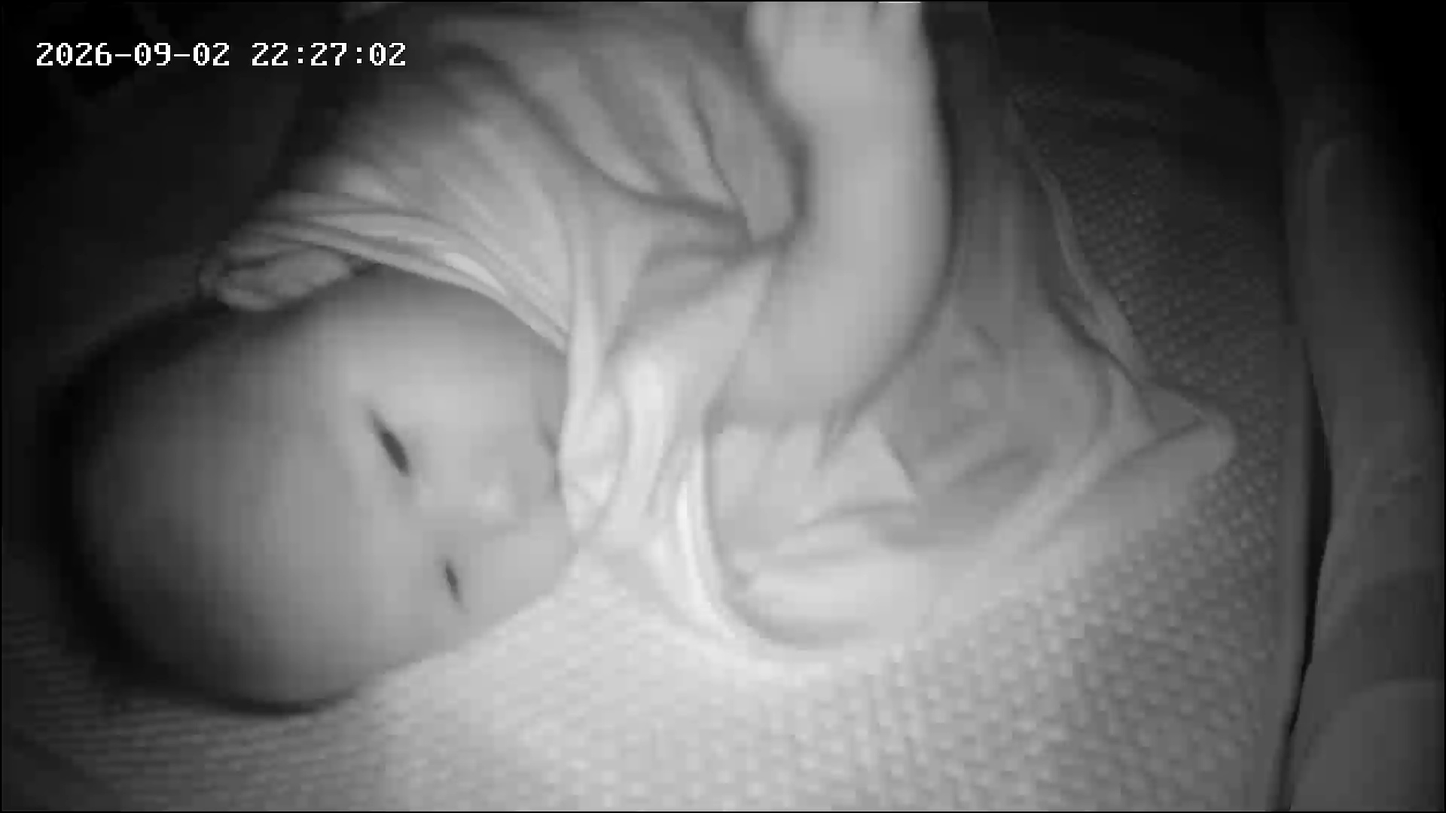baby: (0, 12, 913, 736)
baby_face: (7, 259, 582, 724)
